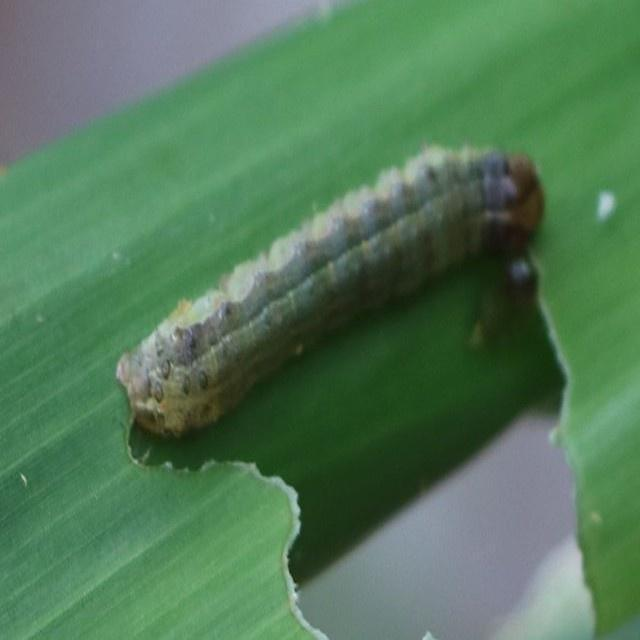gusano_cogollero: (119, 150, 542, 435)
